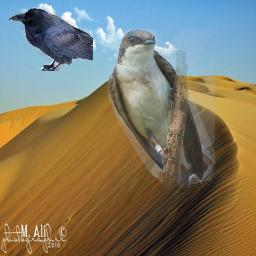Crow: (9, 8, 93, 71)
Swallow: (108, 29, 215, 190)
